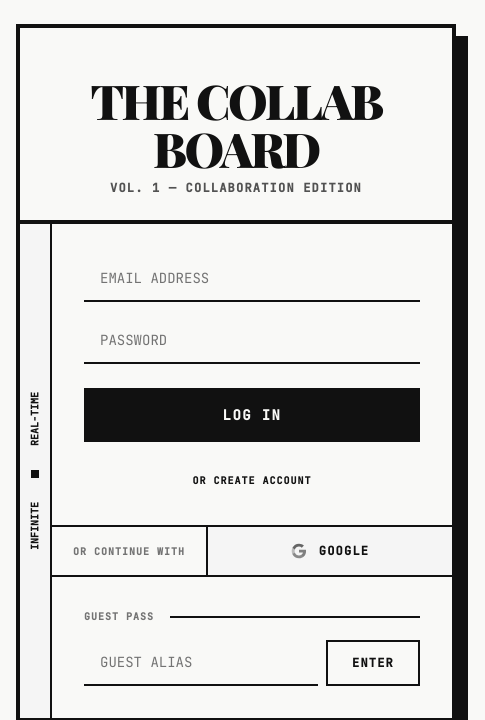
LoginPage integration › does not fallback to signUp for non-disabled anonymous errors
Type "TestUser" into the field with placeholder "GUEST ALIAS" at (201, 663), box [84,640,318,686]
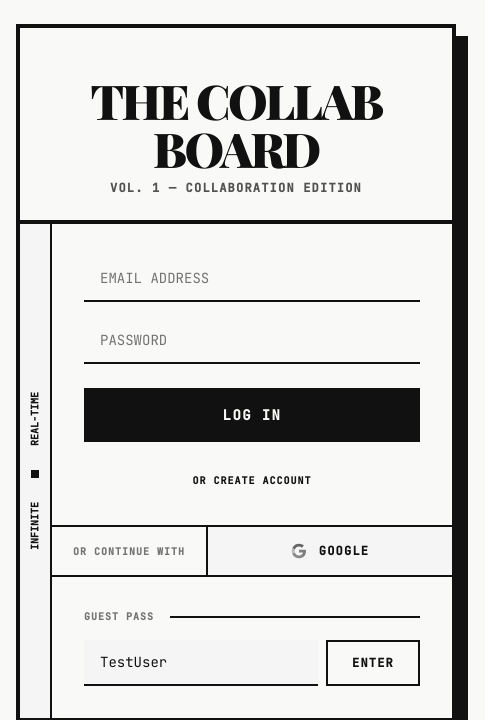
Click the button "ENTER" at (373, 663), box [326,640,420,686]
(page scrolled)
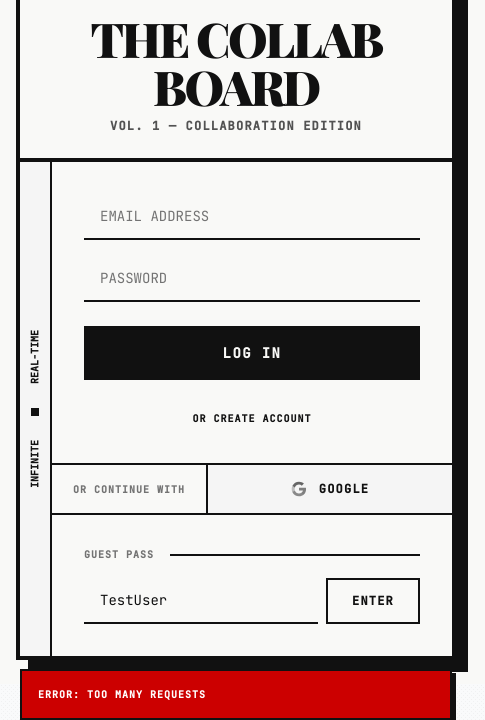
Check: the text "ERROR: too many requests" is shown, box [20,669,452,719]
